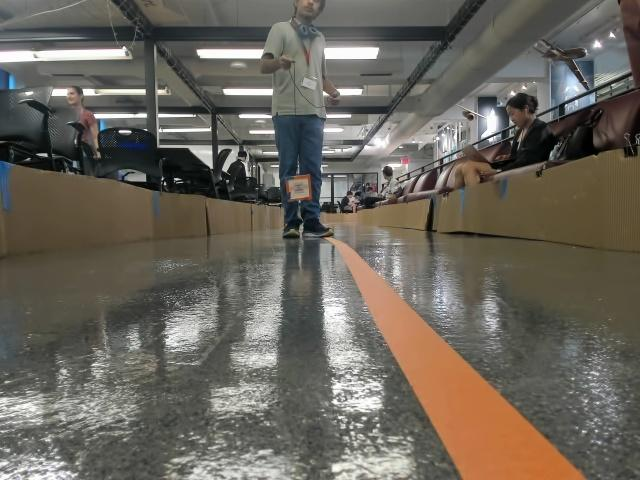Do Not Go Around: (290, 181, 307, 193)
